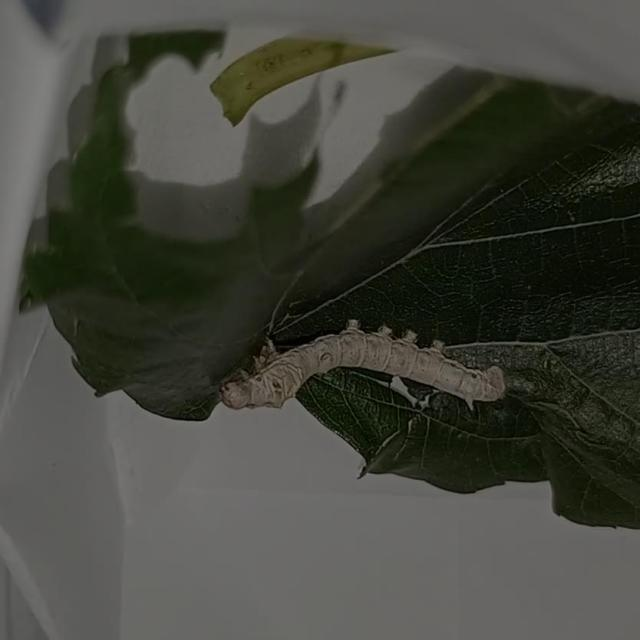Healthy: (208, 310, 512, 431)
